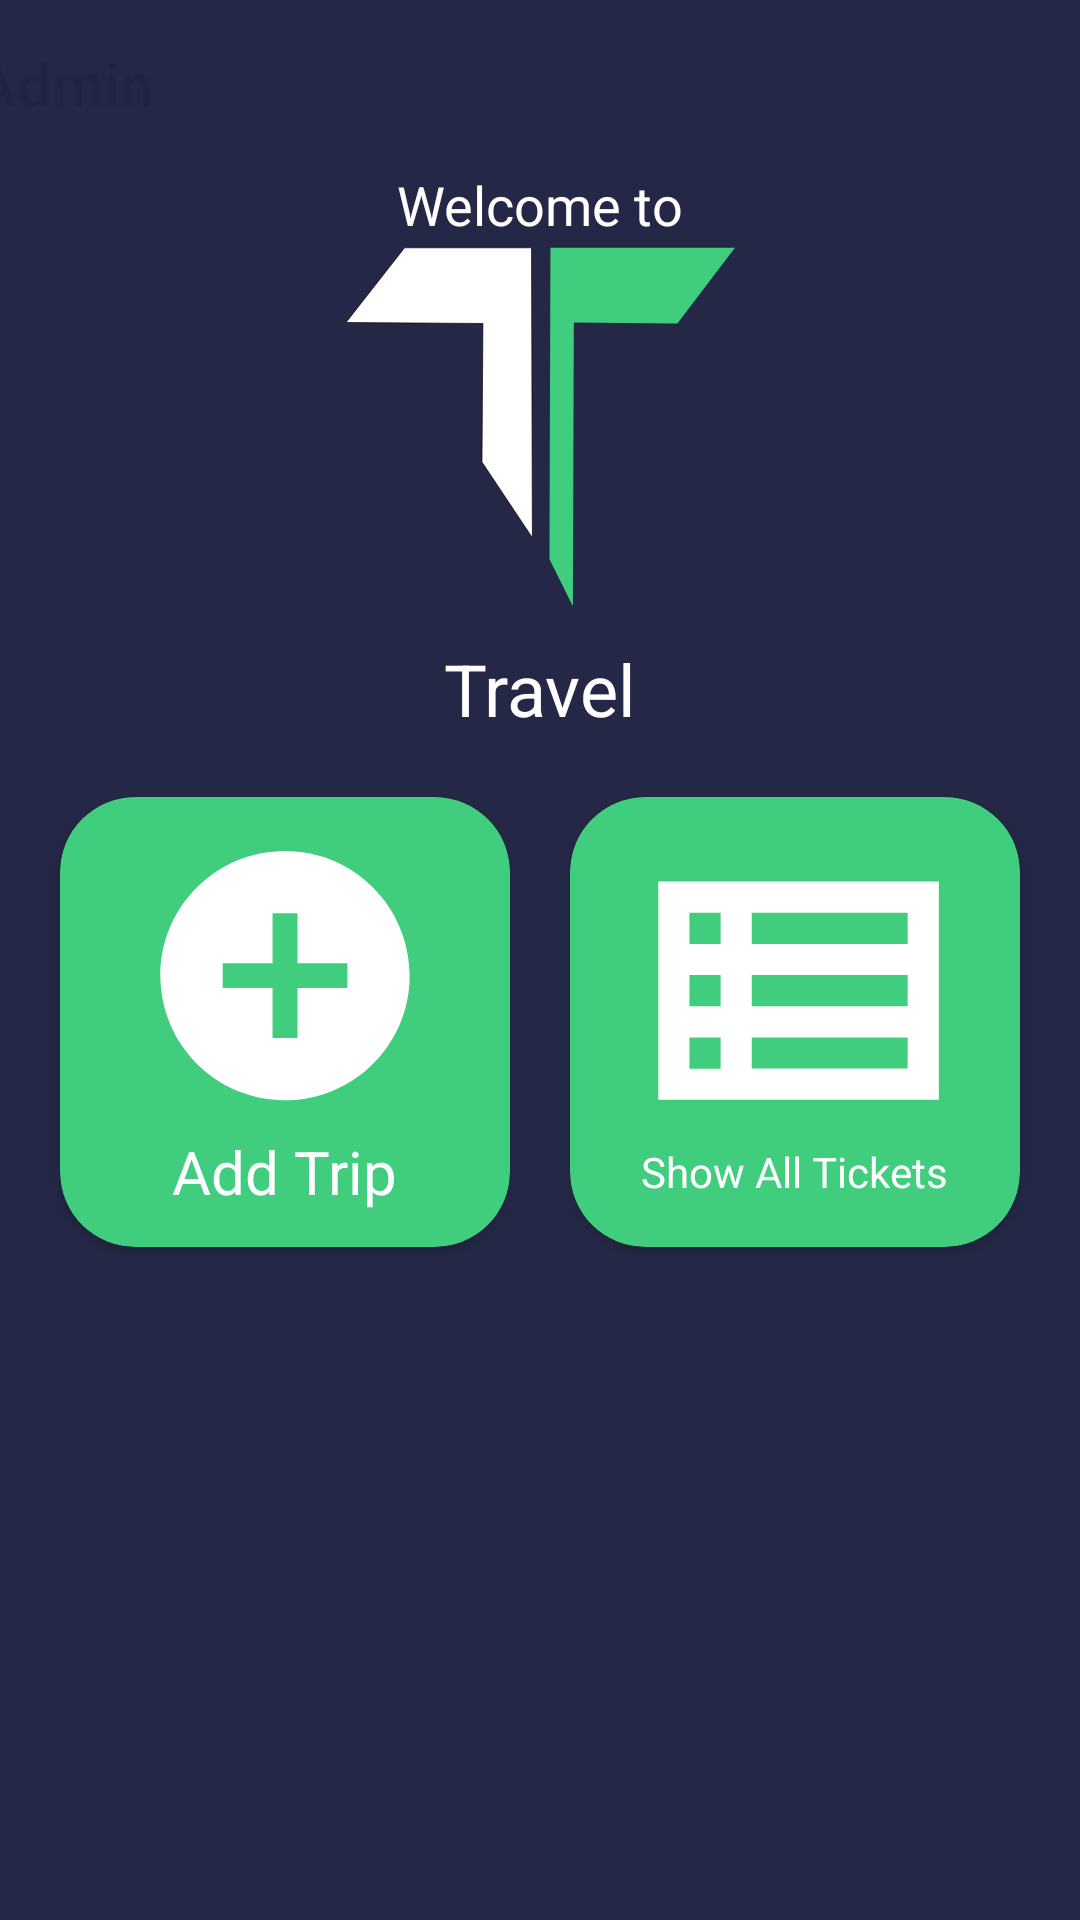

Screen size 1080px×1920px. Icon name, then its center in pixels as (x,y):
list: (798,990)
